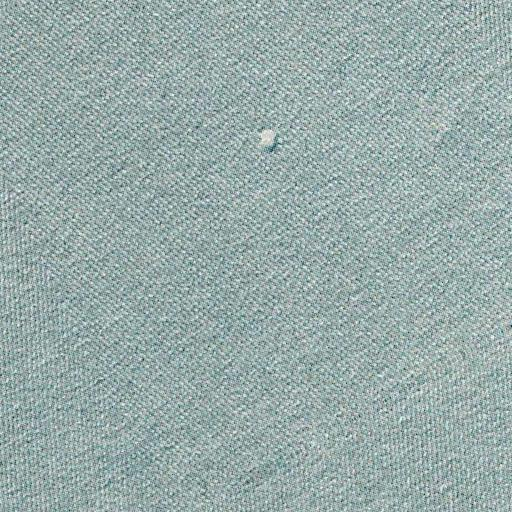knot: (243, 121, 292, 160)
